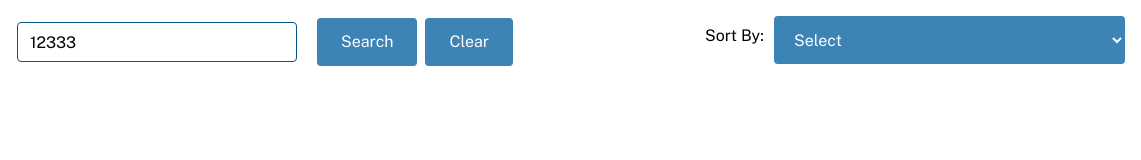
Test: SearchBar Error Handling Tests › displays search error for incomplete search term
# Simulate entering an invalid search term
Replace the text in the field with placeholder "Search for missing persons..." with "au": (157, 42) [17, 22, 297, 62]
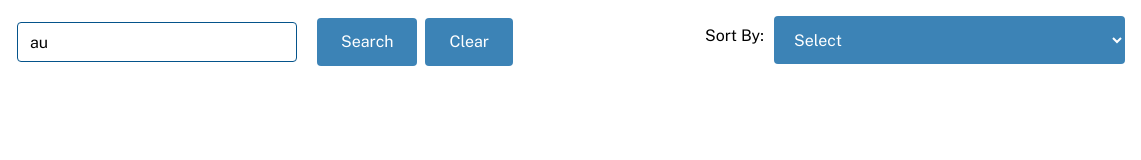
Click the button "Search": (367, 42) [317, 18, 418, 66]
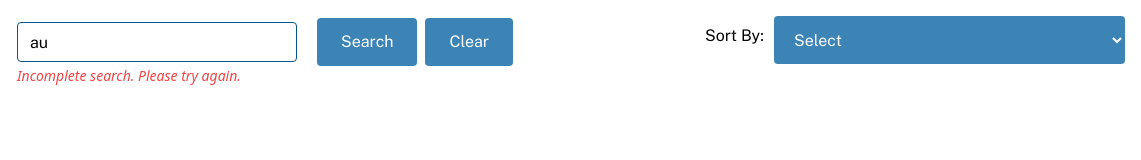
Now the text "Incomplete search. Please try again." is shown, box [17, 66, 241, 85]
